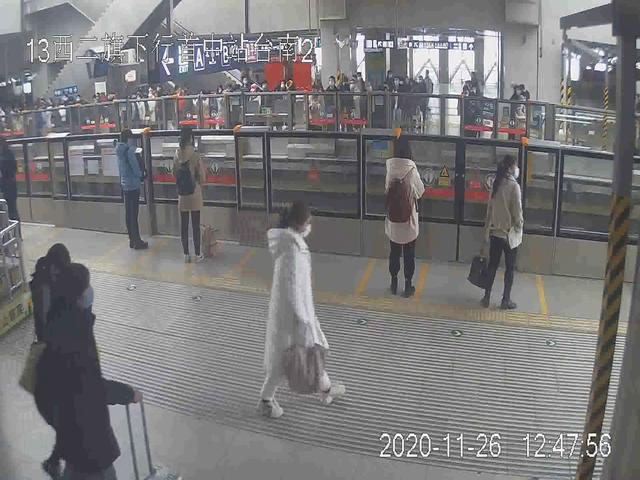person: (43, 264, 139, 480), (262, 202, 344, 416), (473, 149, 527, 310), (380, 130, 430, 298), (172, 125, 212, 267), (110, 129, 154, 252)
